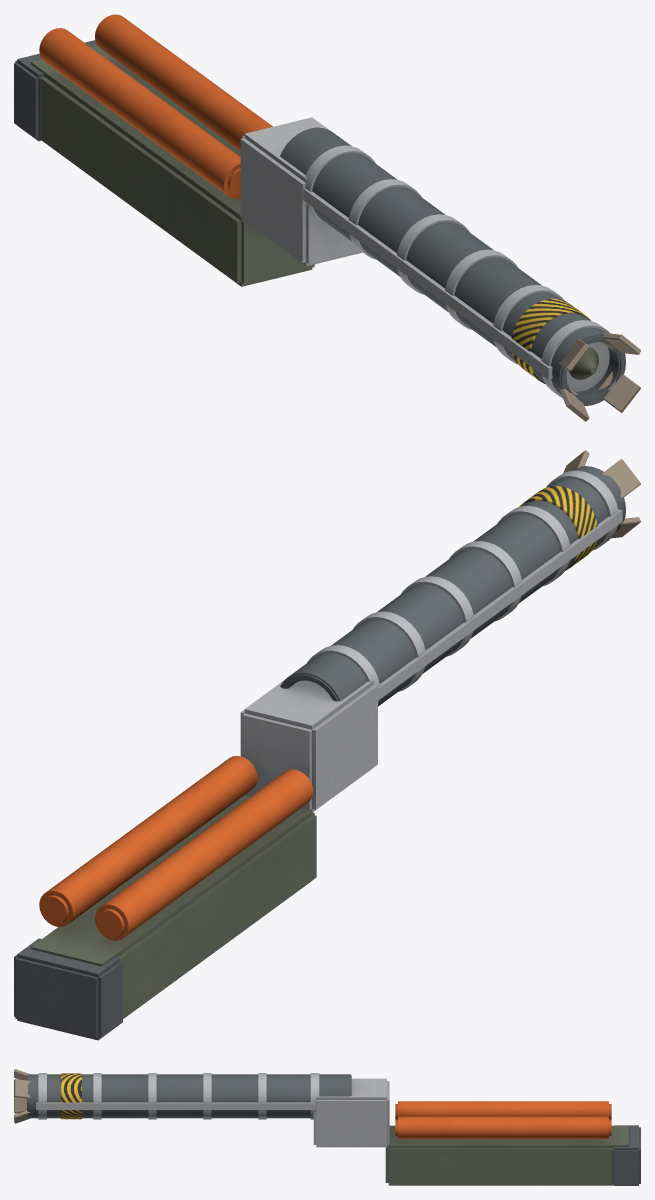
Rendered from att_spinal_torpedo.glb.
3 renders of one model, top to bottom at view 1: azimuth 30°, elevation 25°; view 2: azimuth 150°, elevation 25°; view 3: azimuth 270°, elevation 25°, orthographic. The views are drawn at different scales.
Visible parts, largest first — view 1: TEX_Spinal_Torpedo_Mesh; view 2: TEX_Spinal_Torpedo_Mesh; view 3: TEX_Spinal_Torpedo_Mesh.
Boxes of the visible parts, left/top/right/bottom form: TEX_Spinal_Torpedo_Mesh: left=14, top=14, right=640, bottom=421; TEX_Spinal_Torpedo_Mesh: left=14, top=450, right=640, bottom=1040; TEX_Spinal_Torpedo_Mesh: left=14, top=1069, right=640, bottom=1185.
Bounding box in the file's own units: 0.45 × 0.857 × 4.79.
Materials: 1 (1 with a texture image).
